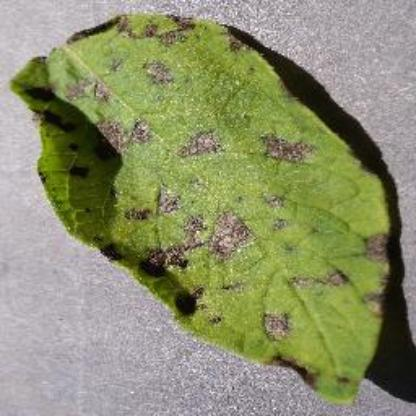Early-Blight: (10, 8, 396, 408)
